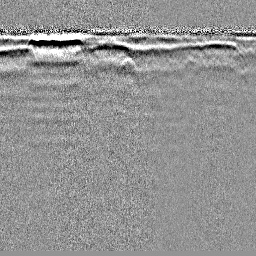cavity: (118, 55, 138, 75)
